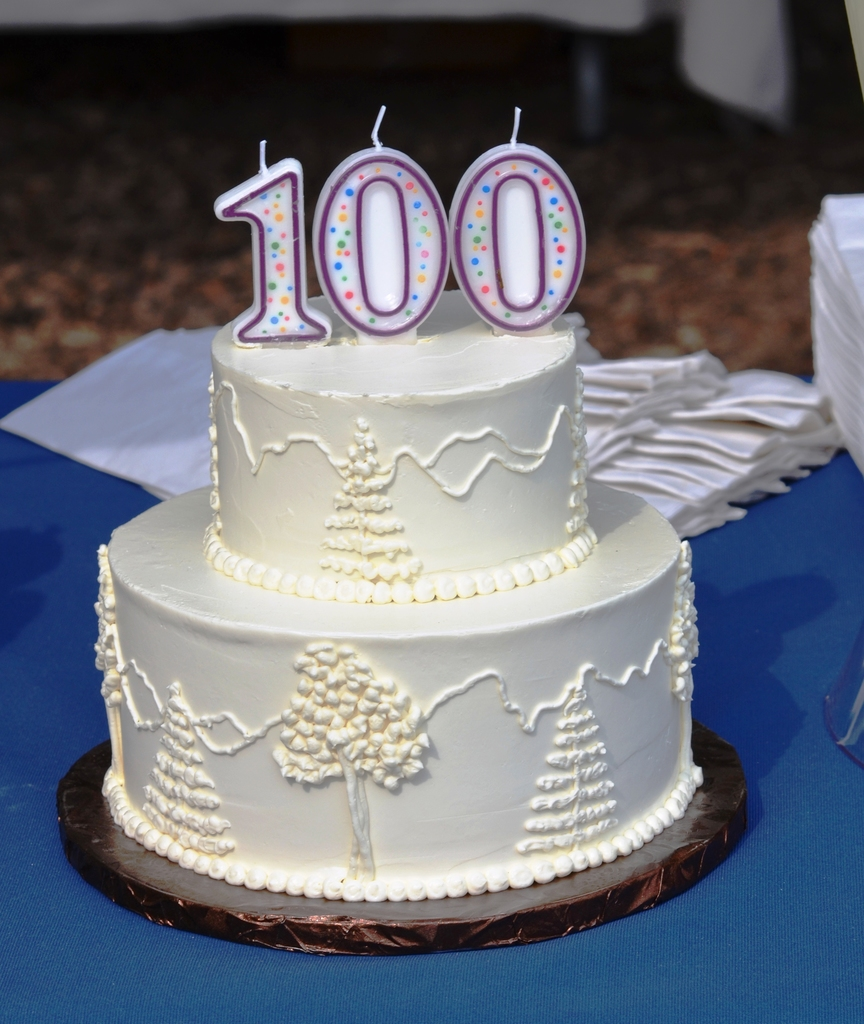cake: (93, 295, 697, 900)
